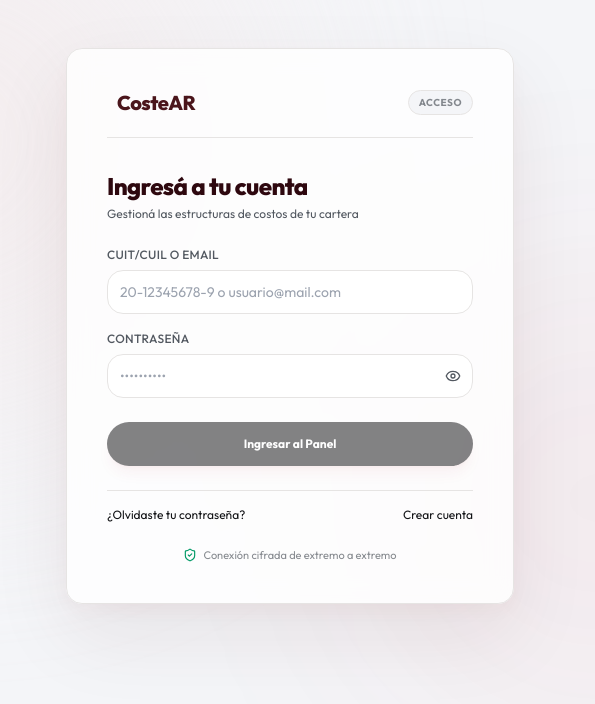
Test: login › con credenciales inválidas muestra el error y no navega
Type "persona@ejemplo.com" into the field labelled "CUIT/CUIL o email" at (290, 292), box x1=107 y1=270 x2=473 y2=314
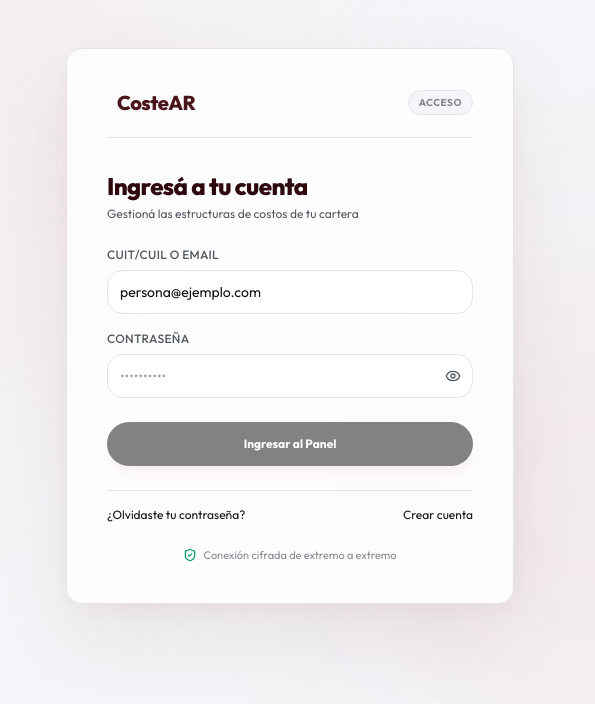
Type "ClaveSegura1" into the password field labelled "Contraseña" at (290, 376), box x1=107 y1=354 x2=473 y2=398
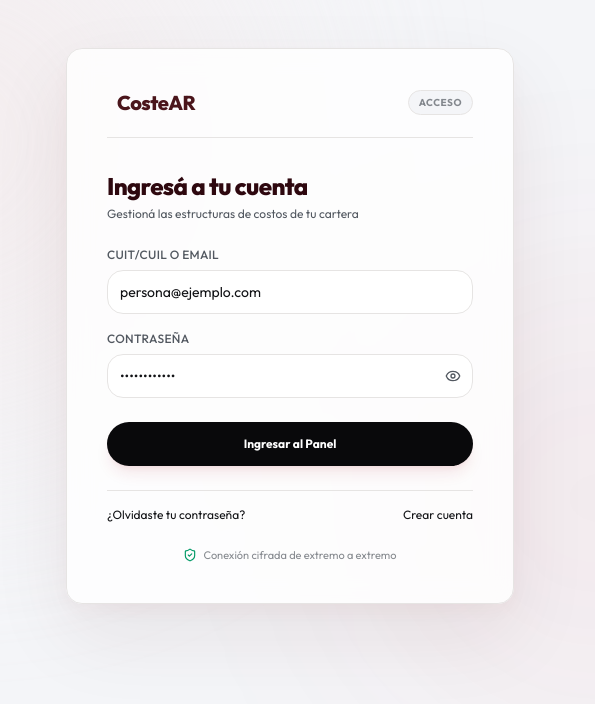
Click the button "Ingresar al Panel" at (290, 444), box x1=107 y1=422 x2=473 y2=466
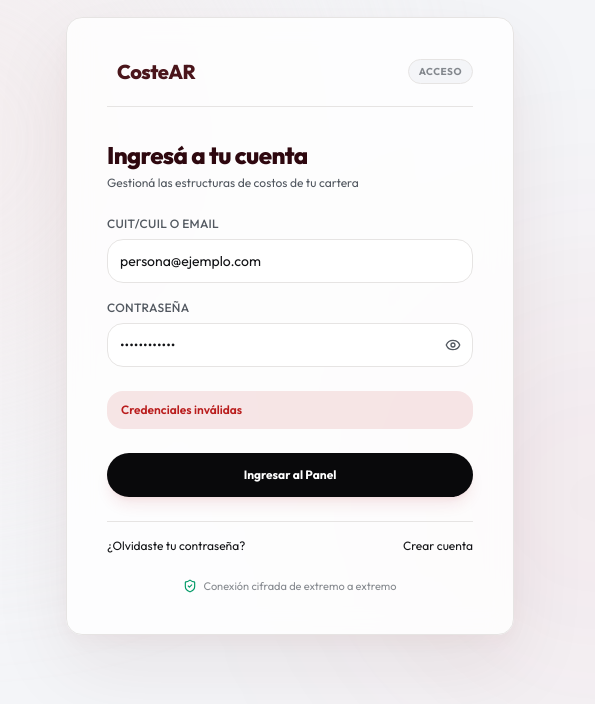
Check: the text "Credenciales inválidas" is shown, box x1=107 y1=391 x2=473 y2=429
